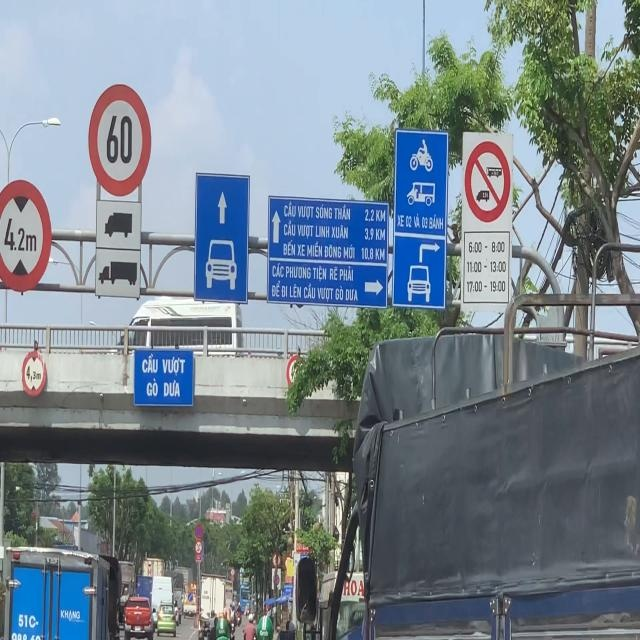bien_chi_dan: (88, 78, 154, 198), (0, 169, 56, 300), (20, 346, 50, 408)
